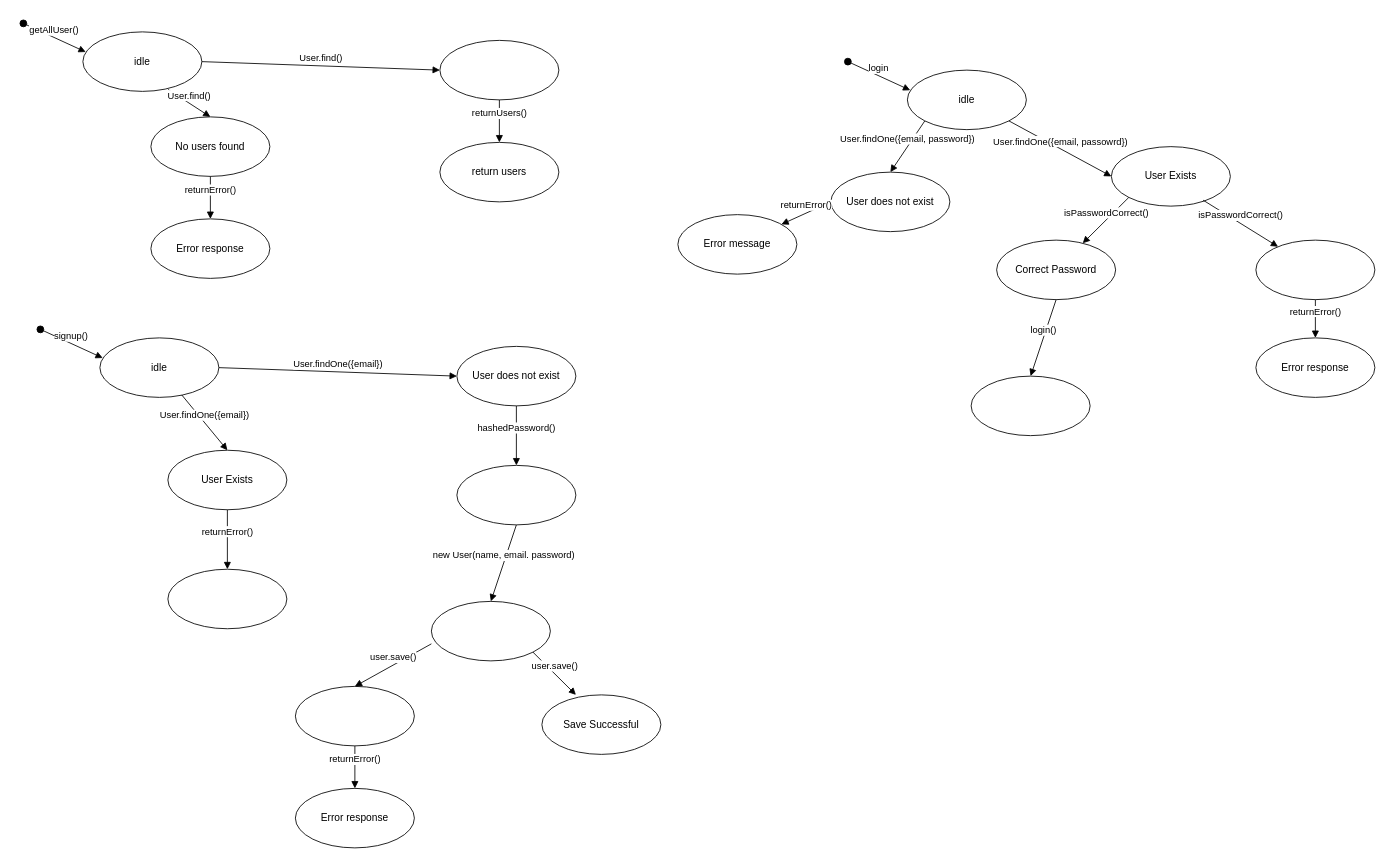
Some shapes in this 1390 by 863 pixel diagram are drawn without their labels. The centre of each missing label's shape, as x and y in pixels:
"Ask to login instead" goes at point (227, 598).
"hashedPassword" goes at point (516, 495).
"Incorrect Passowrd" goes at point (1315, 269).
"Login Successful" goes at point (1030, 405).
"Save Unsuccessful" goes at point (354, 716).
"User Creation" goes at point (490, 631).
"Users found" goes at point (499, 70).
